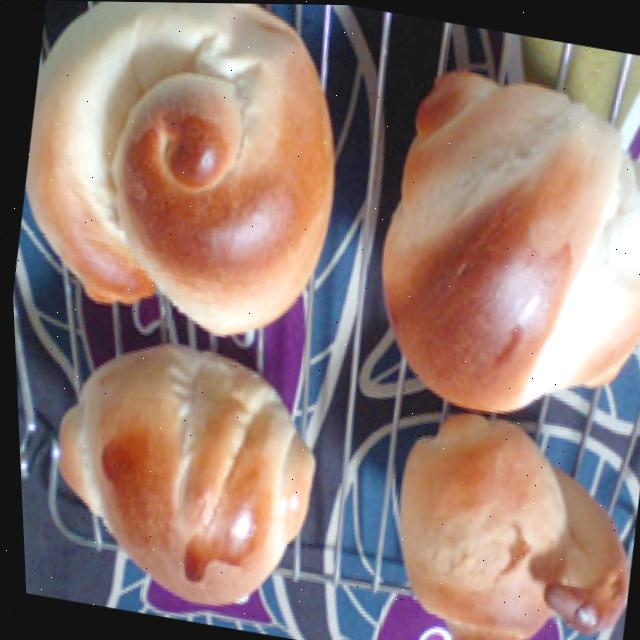面包点心: (349, 59, 640, 450)
